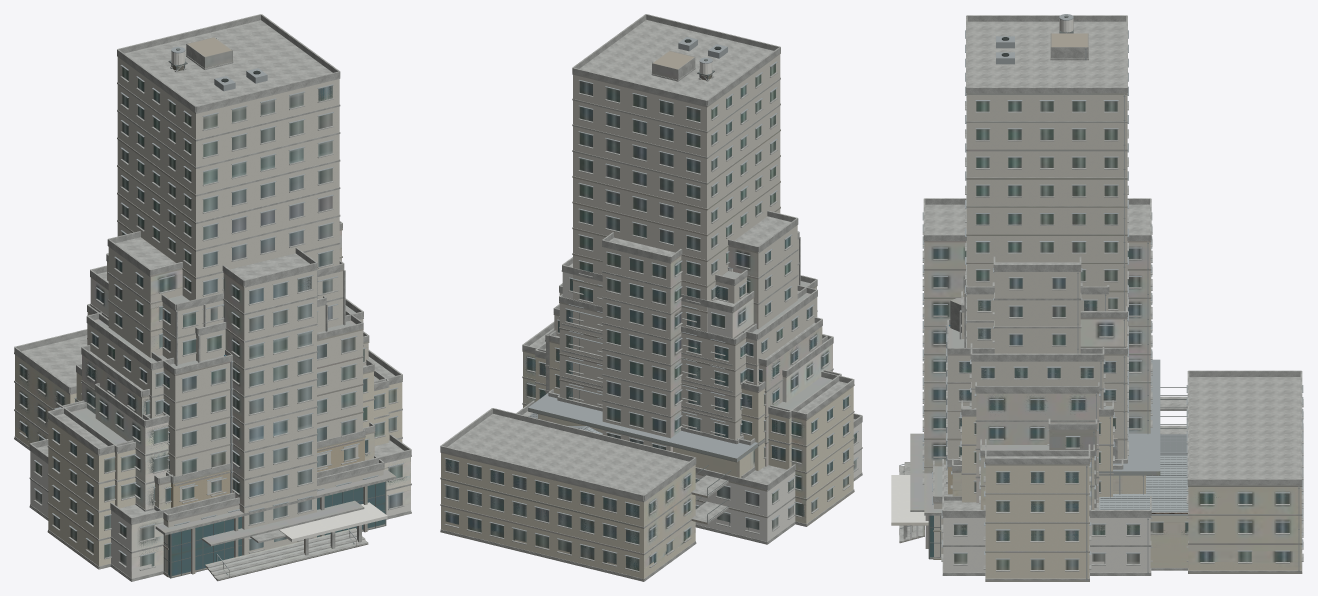
The model's file is building_03.glb.
The picture shows the model from 3 angles, left to right: view 1: azimuth 30°, elevation 25°; view 2: azimuth 150°, elevation 25°; view 3: azimuth 270°, elevation 25°; orthographic projection. The views are drawn at different scales.
Visible parts, largest first — view 1: building_061_normal_Cladding, building_061_normal_Structure, building_064_normal_Cladding, building_063_normal_Cladding, building_064_normal_Structure, building_061_lod2_Cladding, building_075_normal_Cladding, building_064_lod1_Cladding, building_064_lod2_Cladding, building_080_lod1_Cladding, building_074_lod1_Cladding, building_074_normal_Structure (+36 smaller); view 2: building_061_normal_Cladding, building_076_normal_Structure, building_061_normal_Structure, building_061_lod1_Cladding, building_076_normal_Cladding, building_064_normal_Cladding, building_076_lod1_Cladding, building_064_lod1_Cladding, building_063_normal_Cladding, building_074_normal_Structure, building_076_lod2_Cladding, building_064_normal_Structure (+23 smaller); view 3: building_061_normal_Cladding, building_076_normal_Structure, building_061_normal_Structure, building_064_lod1_Cladding, building_076_lod1_Cladding, building_075_normal_Cladding, building_061_lod1_Cladding, building_064_normal_Cladding, building_064_normal_Structure, building_074_normal_Cladding, building_062_lod1_Cladding, building_075_lod1_Cladding (+25 smaller).
Part boxes in pixels (x1,y1,x2,y2): building_061_normal_Cladding: (117, 51, 383, 573); building_061_normal_Structure: (117, 14, 384, 575); building_064_normal_Cladding: (108, 247, 316, 551); building_063_normal_Cladding: (87, 312, 362, 500); building_064_normal_Structure: (107, 221, 342, 553); building_061_lod2_Cladding: (175, 86, 376, 525); building_075_normal_Cladding: (48, 382, 402, 565); building_064_lod1_Cladding: (108, 229, 342, 554); building_064_lod2_Cladding: (152, 245, 341, 550); building_080_lod1_Cladding: (53, 409, 385, 581); building_074_lod1_Cladding: (35, 276, 410, 578); building_074_normal_Structure: (29, 265, 411, 581); building_061_normal_Cladding: (573, 54, 780, 431); building_076_normal_Structure: (440, 342, 841, 581); building_061_normal_Structure: (572, 14, 780, 478); building_061_lod1_Cladding: (572, 50, 780, 327); building_076_normal_Cladding: (441, 357, 789, 578); building_064_normal_Cladding: (602, 225, 797, 450); building_076_lod1_Cladding: (440, 348, 831, 581); building_064_lod1_Cladding: (602, 236, 797, 451); building_063_normal_Cladding: (559, 286, 816, 439); building_074_normal_Structure: (516, 257, 862, 544); building_076_lod2_Cladding: (445, 363, 791, 570); building_064_normal_Structure: (602, 210, 798, 434); building_061_normal_Cladding: (934, 18, 1127, 556); building_076_normal_Structure: (979, 370, 1303, 572); building_061_normal_Structure: (933, 15, 1128, 558); building_064_lod1_Cladding: (924, 241, 1151, 473); building_076_lod1_Cladding: (980, 445, 1302, 573); building_075_normal_Cladding: (985, 465, 1089, 578); building_061_lod1_Cladding: (933, 21, 1127, 559); building_064_normal_Cladding: (994, 272, 1080, 353); building_064_normal_Structure: (904, 198, 1152, 484); building_074_normal_Cladding: (891, 475, 1150, 572); building_062_lod1_Cladding: (975, 393, 1099, 502); building_075_lod1_Cladding: (985, 464, 1188, 581).
Size of the model in its own units: 38.41 by 55.37 by 43.71.
Materials: 57 (56 with a texture image).
